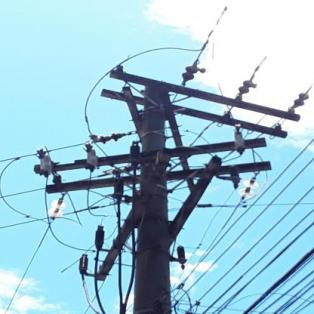Poste: (130, 79, 176, 314)
